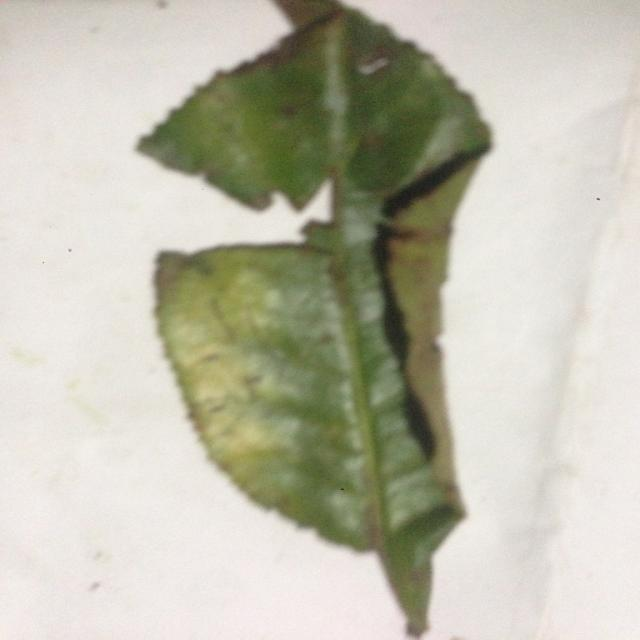Red Leaf Spot: (87, 0, 523, 635)
